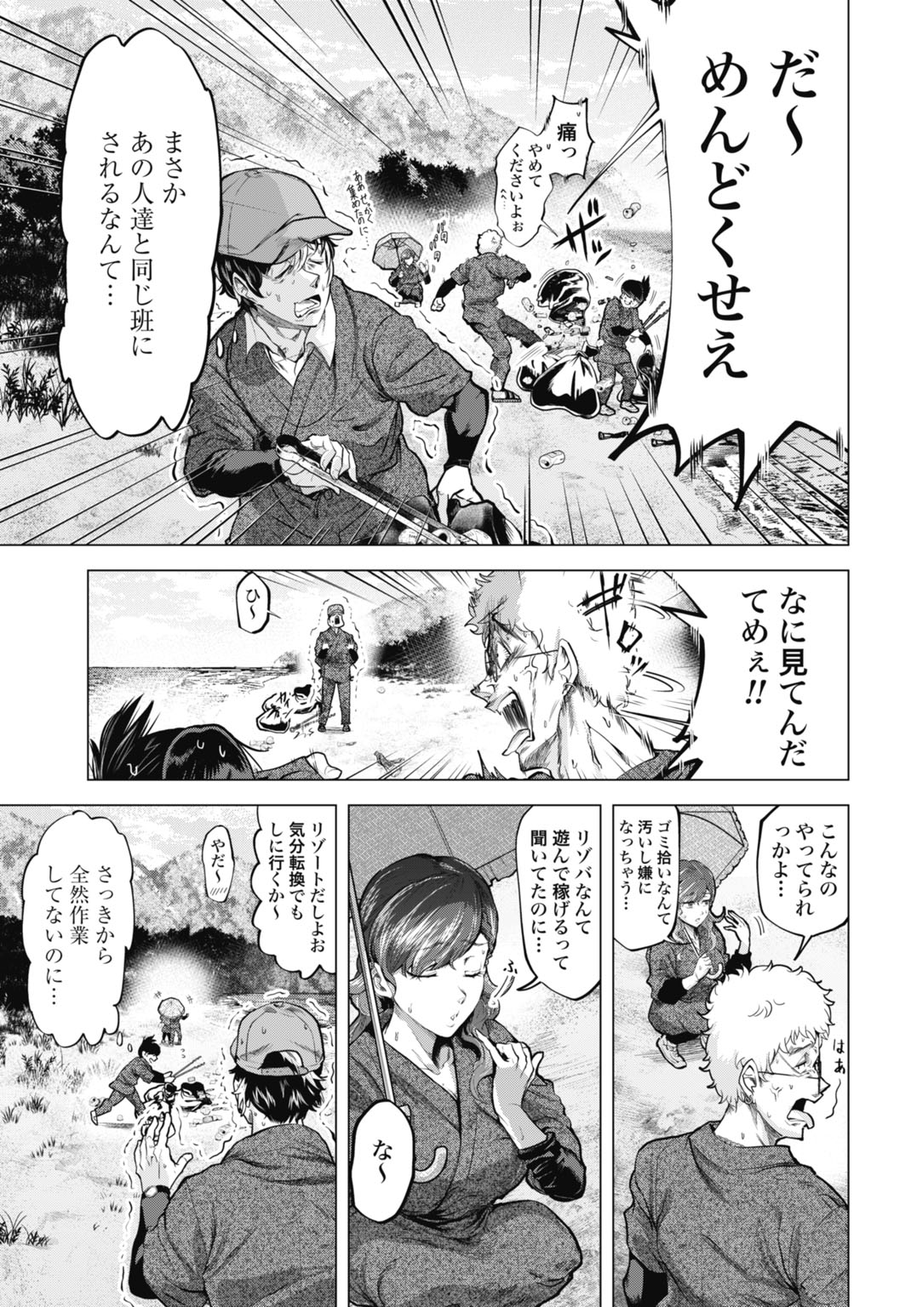bubbles: (604, 1, 849, 516), (54, 23, 229, 442), (656, 573, 850, 780), (16, 806, 144, 1057), (489, 83, 599, 252), (513, 804, 601, 1007), (249, 803, 334, 984), (753, 806, 849, 962), (610, 803, 690, 952), (347, 1093, 421, 1231), (199, 823, 237, 907), (232, 573, 283, 635)
